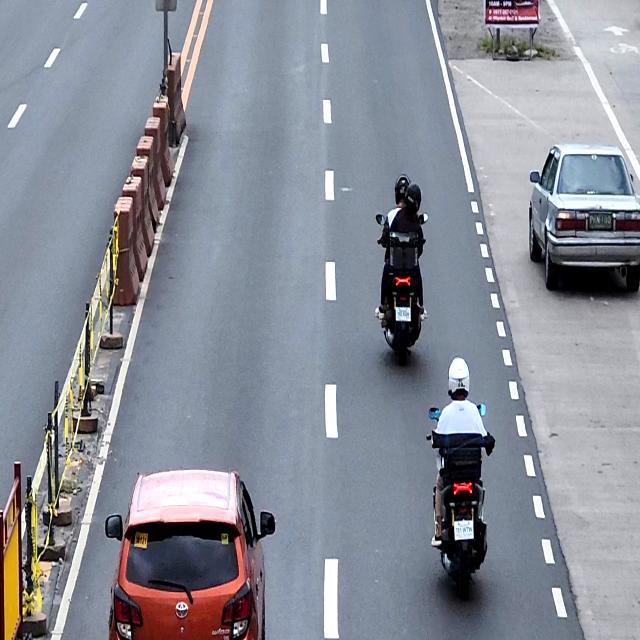Car: (104, 468, 277, 640), (527, 142, 640, 298)
License-Plate: (588, 212, 614, 232), (454, 520, 475, 540), (396, 305, 410, 322)
Motorcycle: (424, 402, 498, 586), (374, 212, 429, 364)
